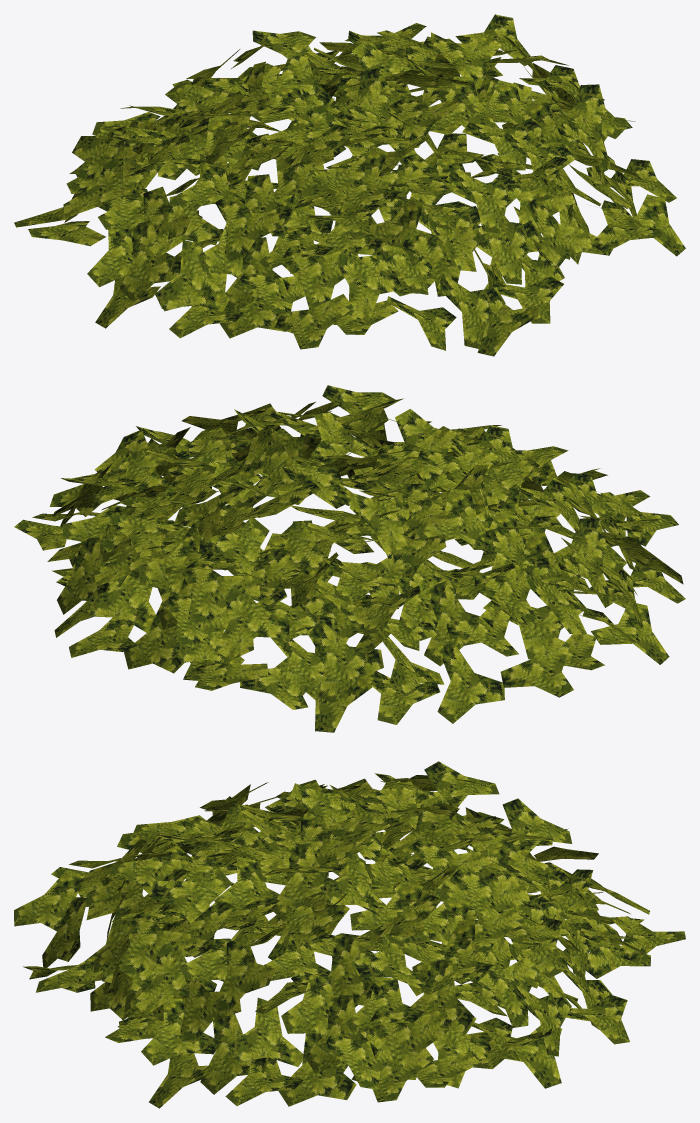
3 views of the same model, one above another, from view 1: azimuth 30°, elevation 25°; view 2: azimuth 150°, elevation 25°; view 3: azimuth 270°, elevation 25° (orthographic). The views are drawn at different scales.
Parts seen in each view (by area): view 1: MH_Moss01_02.Shape; view 2: MH_Moss01_02.Shape; view 3: MH_Moss01_02.Shape.
Part boxes in pixels (x1,y1,x2,y2): MH_Moss01_02.Shape: [14, 14, 685, 356]; MH_Moss01_02.Shape: [14, 385, 685, 732]; MH_Moss01_02.Shape: [14, 761, 685, 1108].
Bounding box in the file's own units: 0.0964 × 0.0251 × 0.0937.
1 material, 1 textured.
